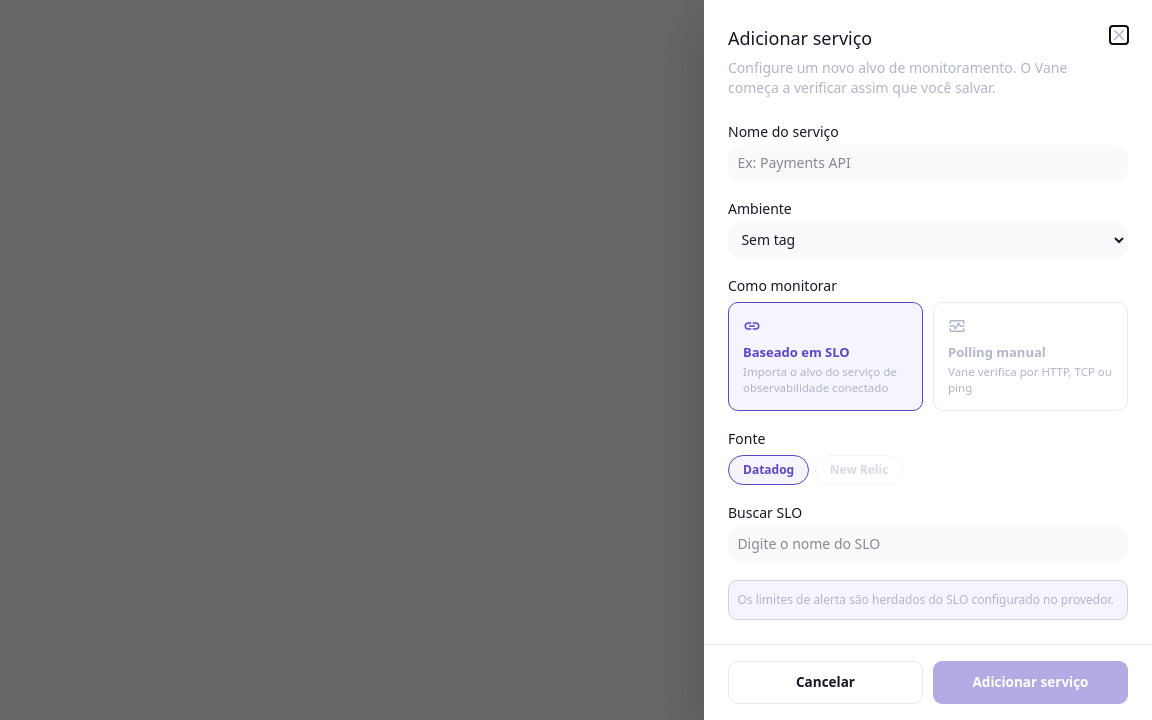
Test: AddServiceDrawer › selecting 'Polling manual' swaps in check-type/target/interval fields and hides Fonte/SLO-search (P3 AC3)
The width and height of the screenshot is (1152, 720).
Click the button "Polling manual". click: (1030, 356)
box: [933, 302, 1128, 411]
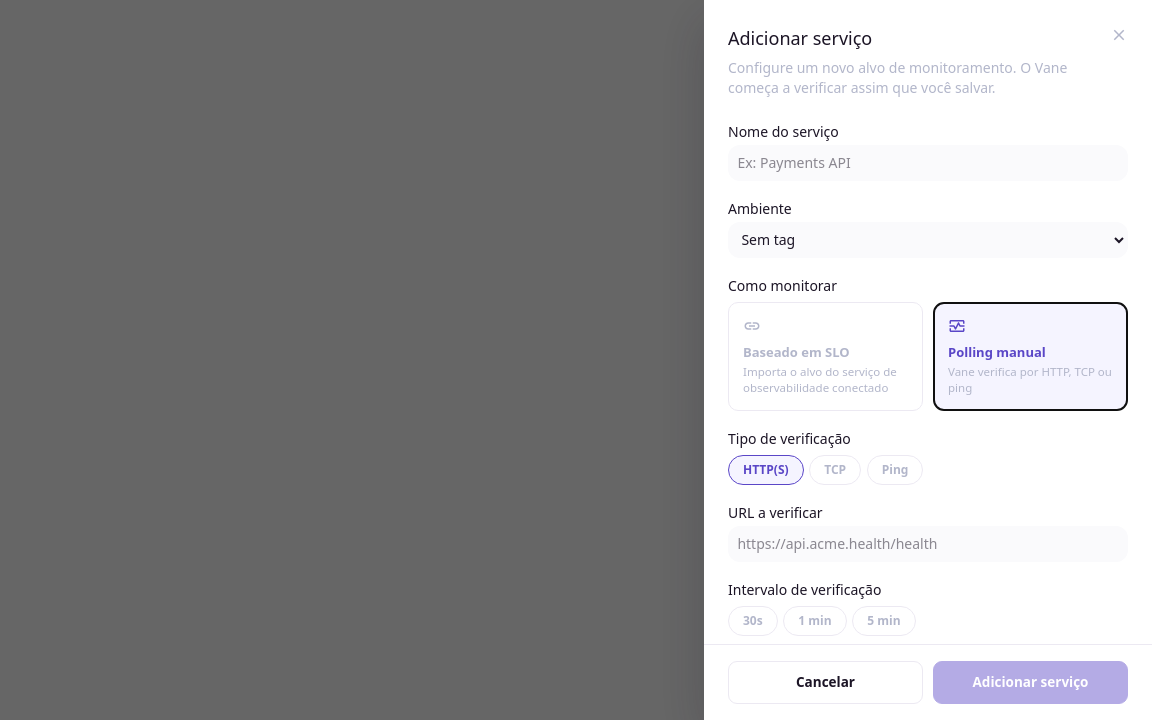
Now the label labelled "Buscar SLO" is gone
Now the button "Datadog" is gone
Now the button "HTTP(S)" is shown, box [728, 455, 804, 485]
